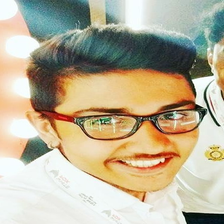no_mask: (55, 69, 197, 189)
